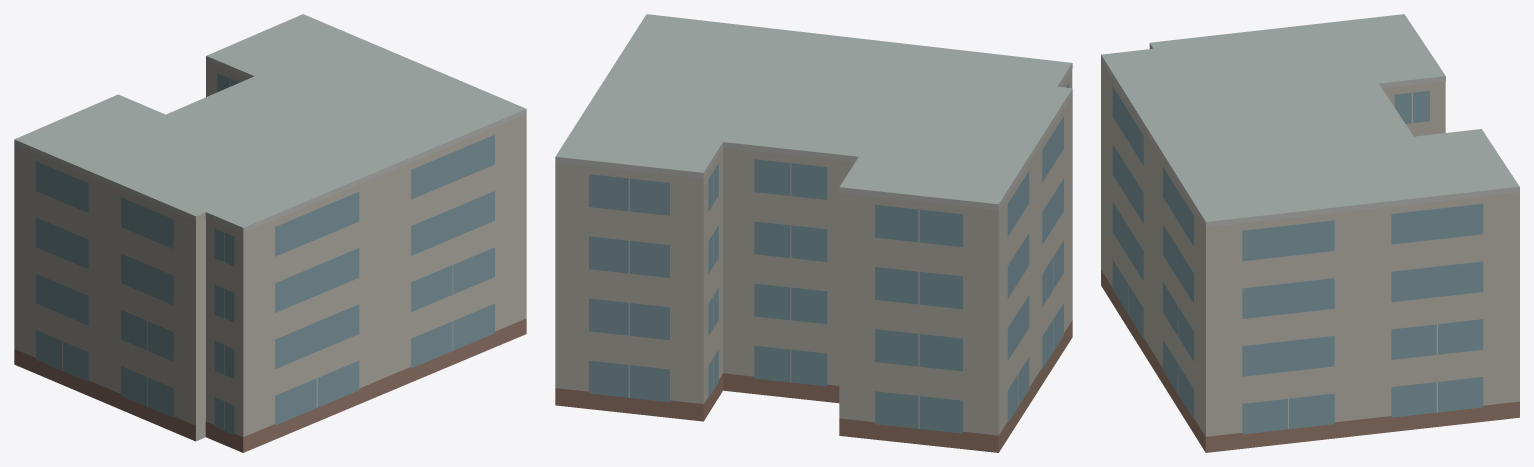
File: survey-upis-32680138.glb
3 renders of one model, left to right at view 1: azimuth 30°, elevation 25°; view 2: azimuth 150°, elevation 25°; view 3: azimuth 270°, elevation 25°, orthographic. The views are drawn at different scales.
Visible parts, largest first — view 1: survey-upis-32680138.tmp; view 2: survey-upis-32680138.tmp; view 3: survey-upis-32680138.tmp.
Boxes of the visible parts, bbox=[...] form: survey-upis-32680138.tmp: bbox=[14, 14, 526, 452]; survey-upis-32680138.tmp: bbox=[555, 14, 1072, 452]; survey-upis-32680138.tmp: bbox=[1101, 14, 1519, 452].
Bounding box in the file's own units: 20.3 × 10.5 × 17.27.
